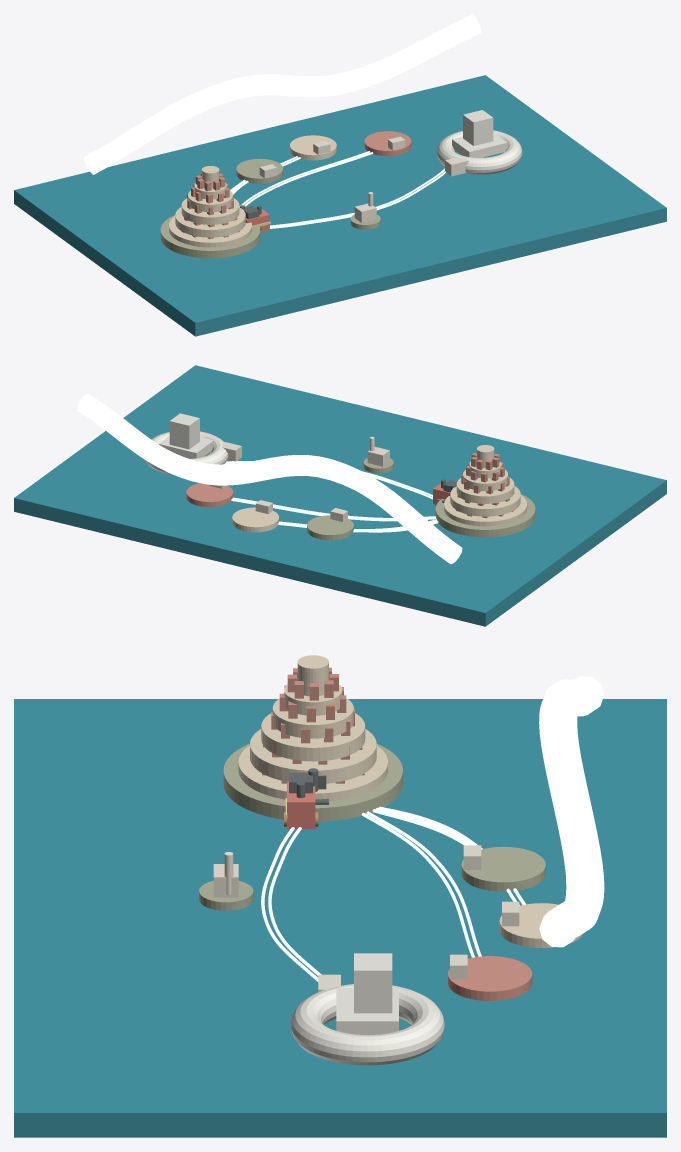
Rendered from water-7-sea-train-network.glb.
The picture shows the model from 3 angles, top to bottom: view 1: azimuth 30°, elevation 25°; view 2: azimuth 150°, elevation 25°; view 3: azimuth 270°, elevation 25°; orthographic projection. The views are drawn at different scales.
Parts seen in each view (by area): view 1: Ocean surface, Aqua Laguna wave wall, Enies waterfall ring, Water 7 base, Water 7 tier 2, Water 7 tier 1, Enies courthouse, St. Poplar island, San Faldo island, Enies court platform, Pucci island, Water 7 tier 3; view 2: Ocean surface, Aqua Laguna wave wall, Water 7 base, Water 7 tier 2, Water 7 tier 1, Enies courthouse, St. Poplar island, Pucci island, San Faldo island, Water 7 tier 3, Enies waterfall ring, Enies court platform (+1 smaller); view 3: Ocean surface, Aqua Laguna wave wall, Enies waterfall ring, Water 7 base, San Faldo island, Pucci island, Water 7 tier 2, Water 7 tier 1, Water 7 tier 3, Enies courthouse, Enies court platform, Water 7 tier 4 (+10 smaller).
Boxes of the visible parts, x1,y1,x2,y2 form: Ocean surface: [14, 75, 666, 336]; Aqua Laguna wave wall: [83, 14, 481, 174]; Enies waterfall ring: [437, 130, 522, 174]; Water 7 base: [160, 215, 260, 258]; Water 7 tier 2: [175, 207, 245, 237]; Water 7 tier 1: [169, 216, 251, 247]; Enies courthouse: [463, 110, 493, 145]; St. Poplar island: [290, 135, 336, 160]; San Faldo island: [364, 131, 411, 156]; Enies court platform: [452, 133, 507, 157]; Pucci island: [236, 158, 283, 183]; Water 7 tier 3: [181, 198, 239, 224]; Ocean surface: [14, 365, 666, 626]; Aqua Laguna wave wall: [77, 393, 462, 564]; Water 7 base: [435, 494, 535, 537]; Water 7 tier 2: [450, 486, 520, 516]; Water 7 tier 1: [444, 495, 527, 526]; Enies courthouse: [169, 413, 199, 449]; St. Poplar island: [232, 507, 278, 532]; Pucci island: [307, 515, 353, 540]; San Faldo island: [186, 483, 233, 507]; Water 7 tier 3: [456, 478, 514, 503]; Enies waterfall ring: [145, 431, 228, 474]; Enies court platform: [158, 436, 213, 458]; Ocean surface: [14, 699, 666, 1137]; Aqua Laguna wave wall: [539, 676, 604, 947]; Enies waterfall ring: [290, 984, 444, 1065]; Water 7 base: [223, 743, 402, 821]; San Faldo island: [448, 956, 532, 1000]; Pucci island: [461, 846, 545, 891]; Water 7 tier 2: [250, 729, 376, 783]; Water 7 tier 1: [238, 745, 387, 801]; Water 7 tier 3: [261, 713, 365, 761]; Enies courthouse: [354, 953, 392, 1013]; Enies court platform: [336, 988, 398, 1034]; Water 7 tier 4: [272, 698, 353, 738].
Bounding box in the file's own units: 36 × 7.69 × 24.
